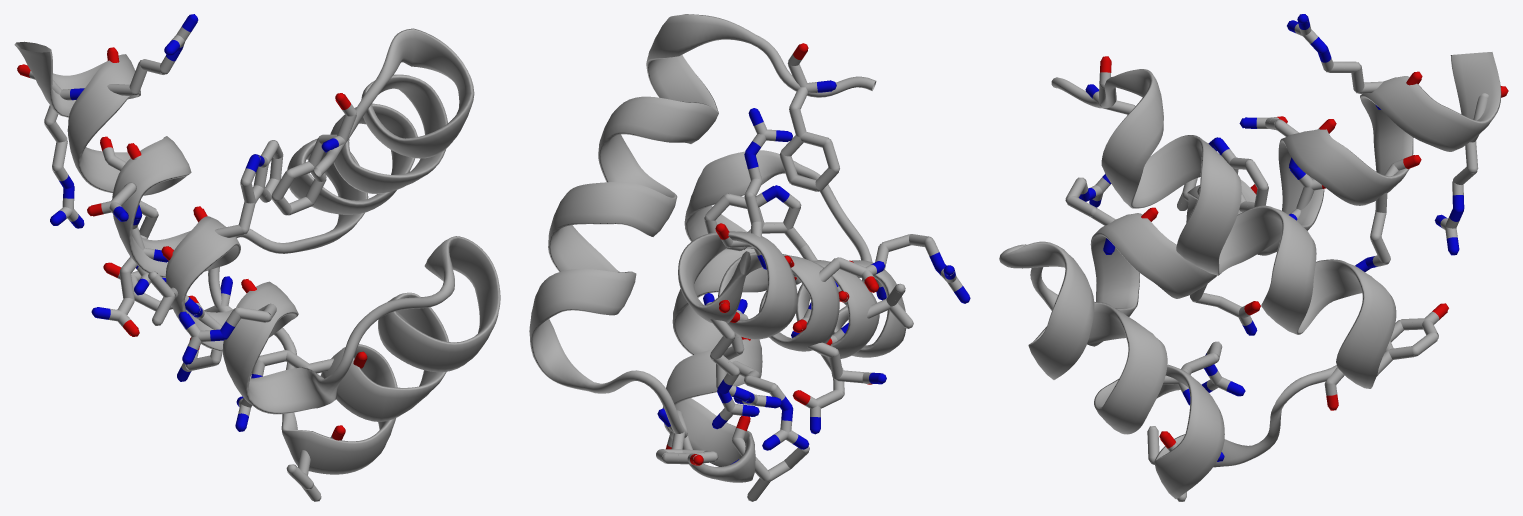
File: prot.gltf
The picture shows the model from 3 angles, left to right: view 1: azimuth 30°, elevation 25°; view 2: azimuth 150°, elevation 25°; view 3: azimuth 270°, elevation 25°; orthographic projection.
Visible parts, largest first — view 1: prot-frame-60; view 2: prot-frame-60; view 3: prot-frame-60.
Boxes of the visible parts, x1,y1,x2,y2 form: prot-frame-60: (14,14,500,501); prot-frame-60: (529,14,970,501); prot-frame-60: (999,14,1508,501).
Bounding box in the file's own units: 1.02 × 1.38 × 1.37.
